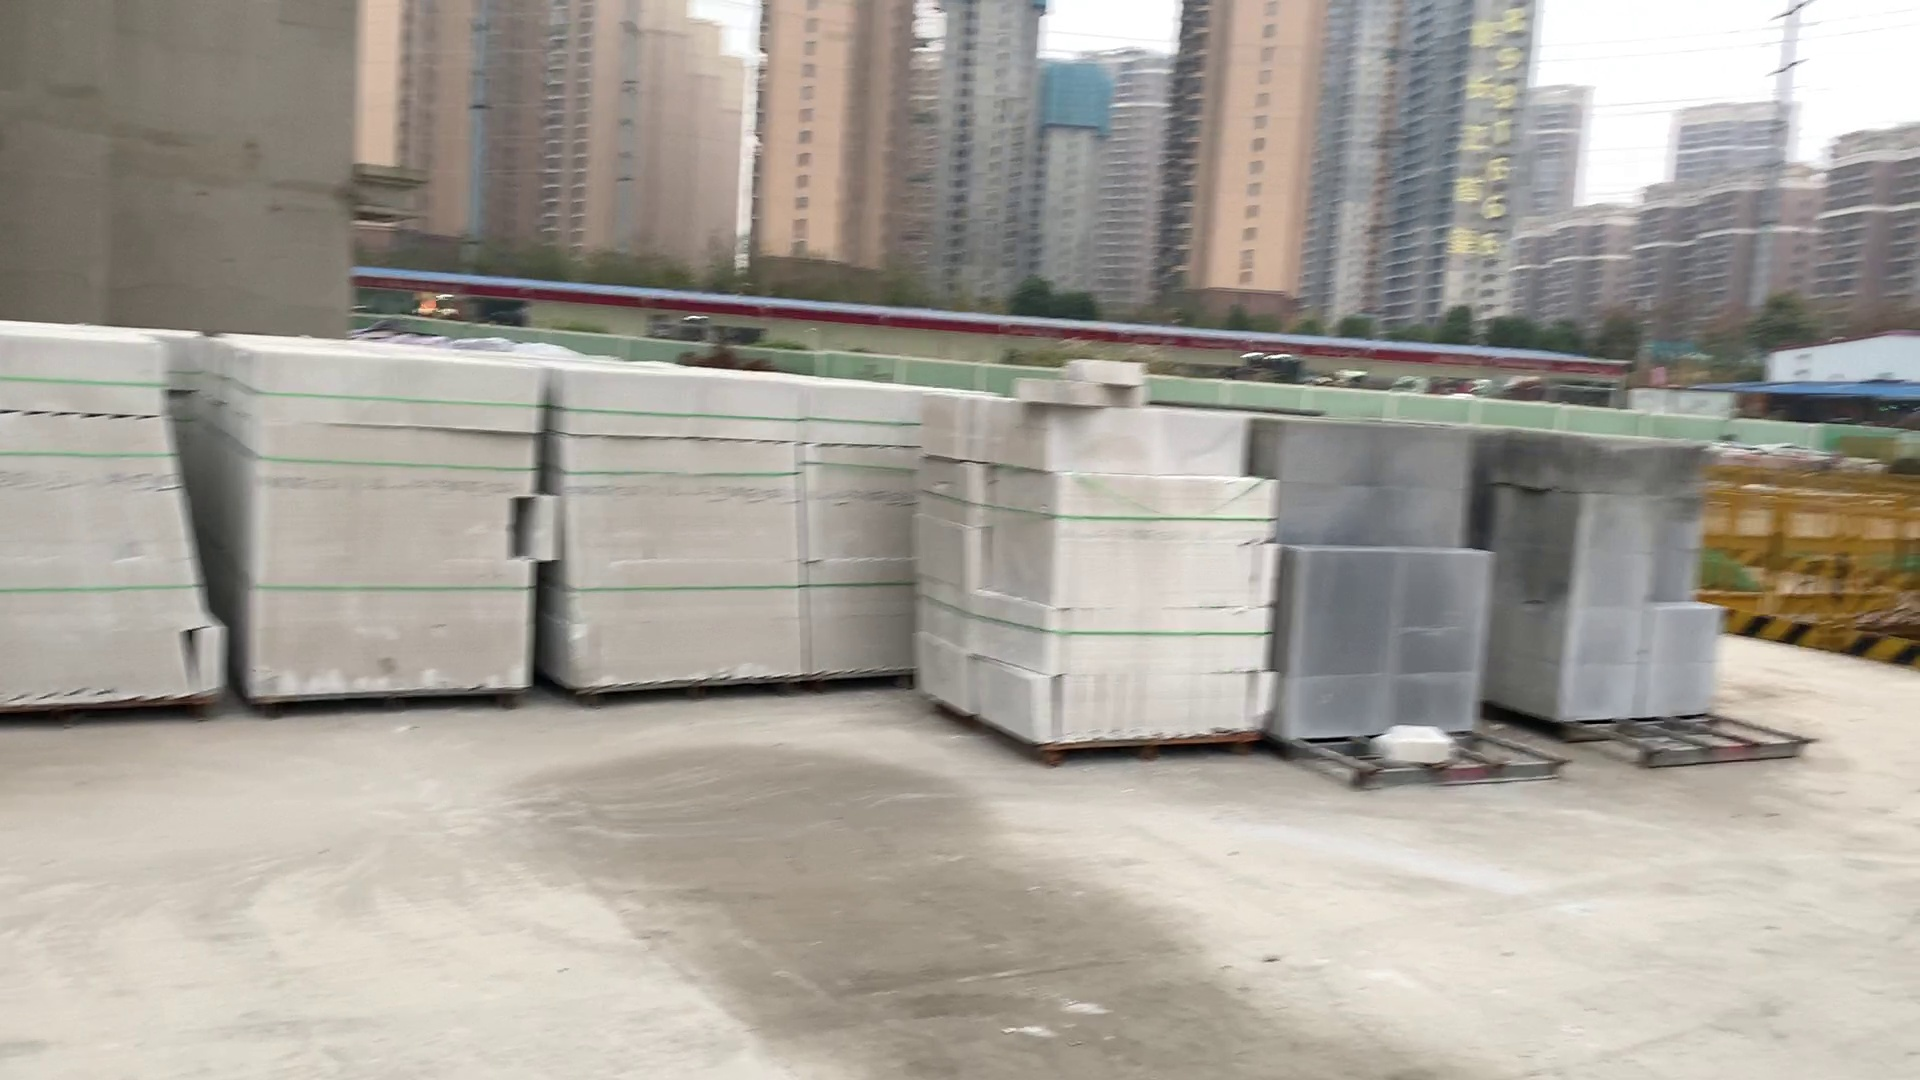brickwork: (922, 392, 1265, 749), (225, 342, 538, 707), (3, 328, 224, 712), (554, 372, 802, 680), (1491, 435, 1730, 735), (1279, 419, 1484, 738), (803, 382, 924, 680)
